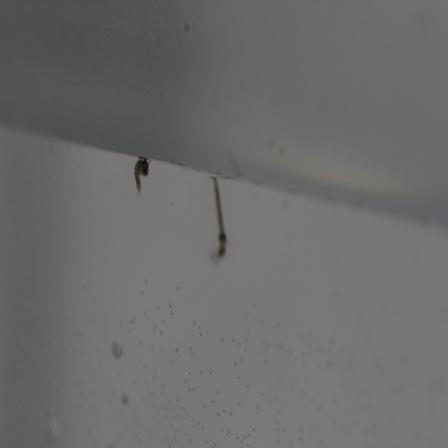Jentik-Nyamuk: (207, 170, 233, 260), (129, 155, 151, 194)
